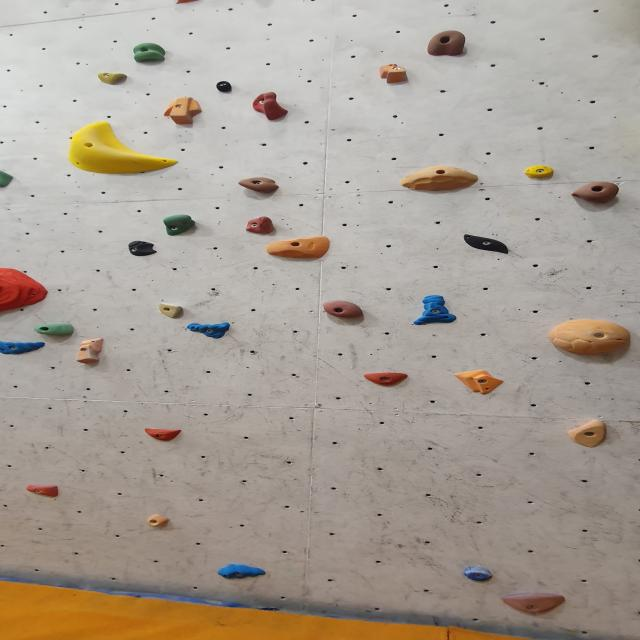Crimp: (0, 267, 50, 322), (497, 592, 568, 615), (214, 564, 269, 579), (362, 372, 413, 388), (186, 322, 233, 338), (1, 341, 48, 356), (520, 165, 557, 182), (141, 427, 185, 441), (154, 301, 186, 318), (23, 485, 63, 498), (463, 566, 495, 582), (144, 515, 172, 529)
Jug: (570, 182, 625, 208), (425, 31, 472, 58), (250, 92, 292, 122), (161, 213, 201, 236), (322, 300, 368, 320), (130, 42, 168, 64), (235, 177, 282, 194), (34, 322, 78, 338), (245, 217, 279, 235), (0, 168, 17, 191)
Pinch: (160, 96, 205, 127), (377, 63, 412, 88), (74, 338, 110, 362), (94, 71, 130, 87), (214, 80, 235, 92)
Sloper: (63, 123, 179, 176), (548, 318, 636, 358), (397, 166, 484, 193), (263, 237, 333, 261), (458, 232, 522, 258), (449, 367, 507, 395), (411, 294, 459, 325), (565, 422, 611, 449), (124, 238, 162, 256)
